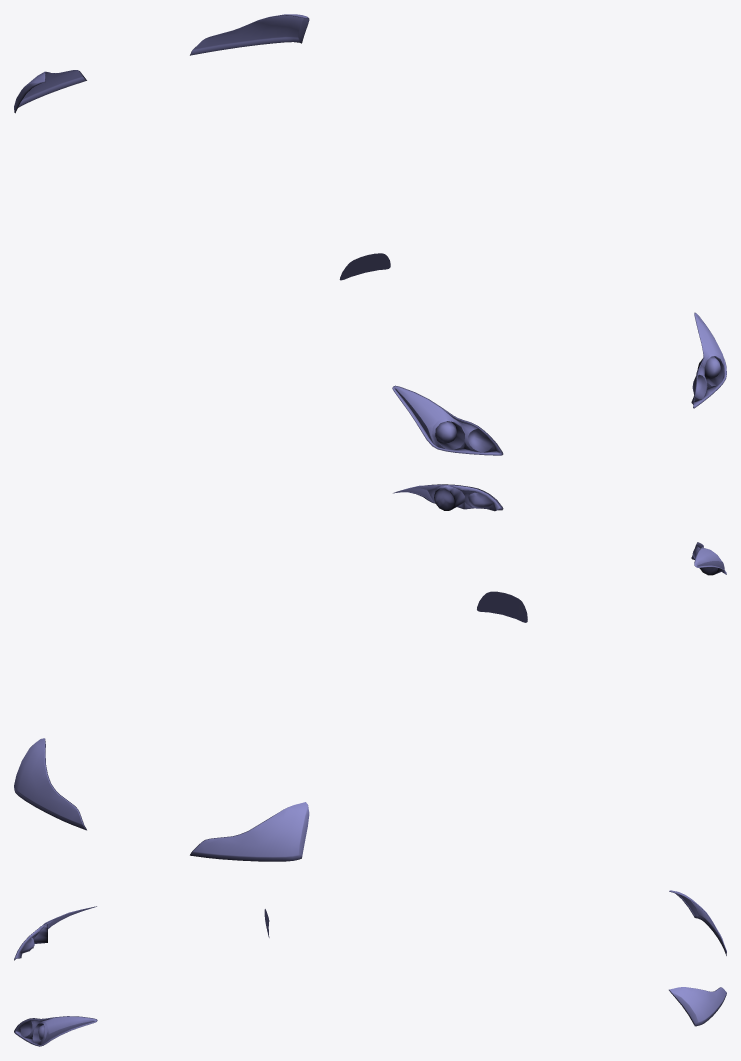
Rendered from G37_Chassis_Detail.fbx.
3 views of the same model, one above another, from view 1: azimuth 30°, elevation 25°; view 2: azimuth 150°, elevation 25°; view 3: azimuth 270°, elevation 25° (orthographic). The views are drawn at different scales.
Visible parts, largest first — view 1: G37_Chassis_Detail; view 2: G37_Chassis_Detail; view 3: G37_Chassis_Detail.
Boxes of the visible parts, box(x1,y1,x2,y2) form: G37_Chassis_Detail: box(14, 14, 726, 455); G37_Chassis_Detail: box(14, 484, 726, 861); G37_Chassis_Detail: box(14, 890, 726, 1046).
Bounding box in the file's own units: 167 × 39.55 × 436.
